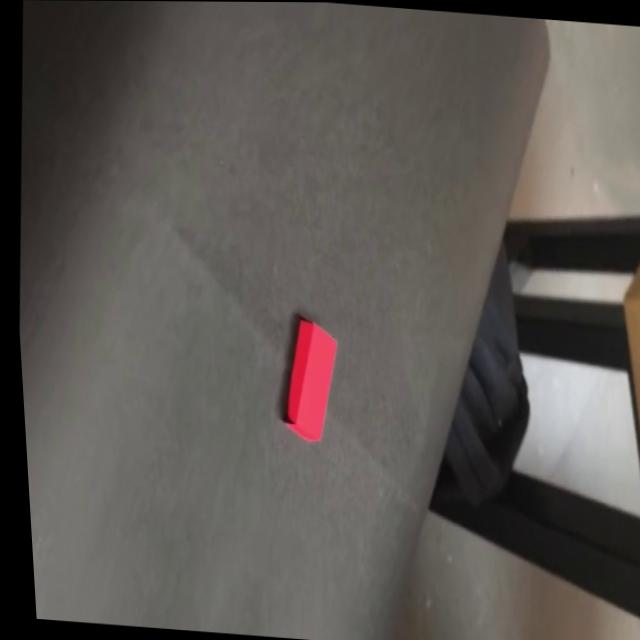red block: (274, 314, 345, 443)
